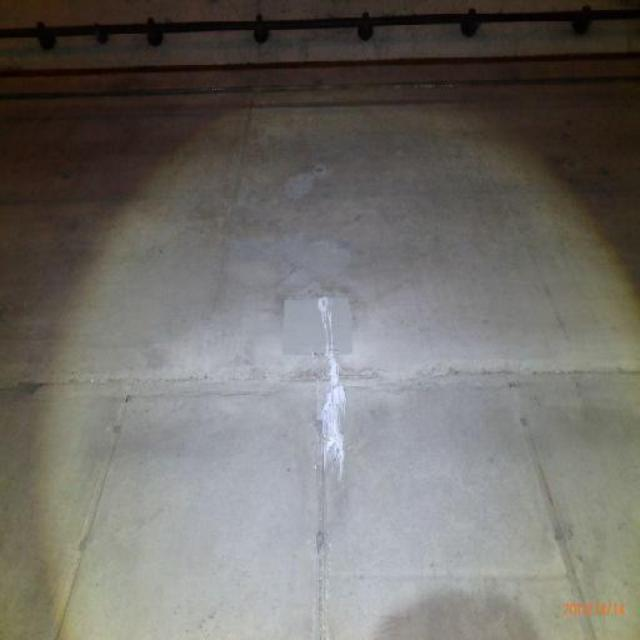D01: (318, 294, 349, 477)
